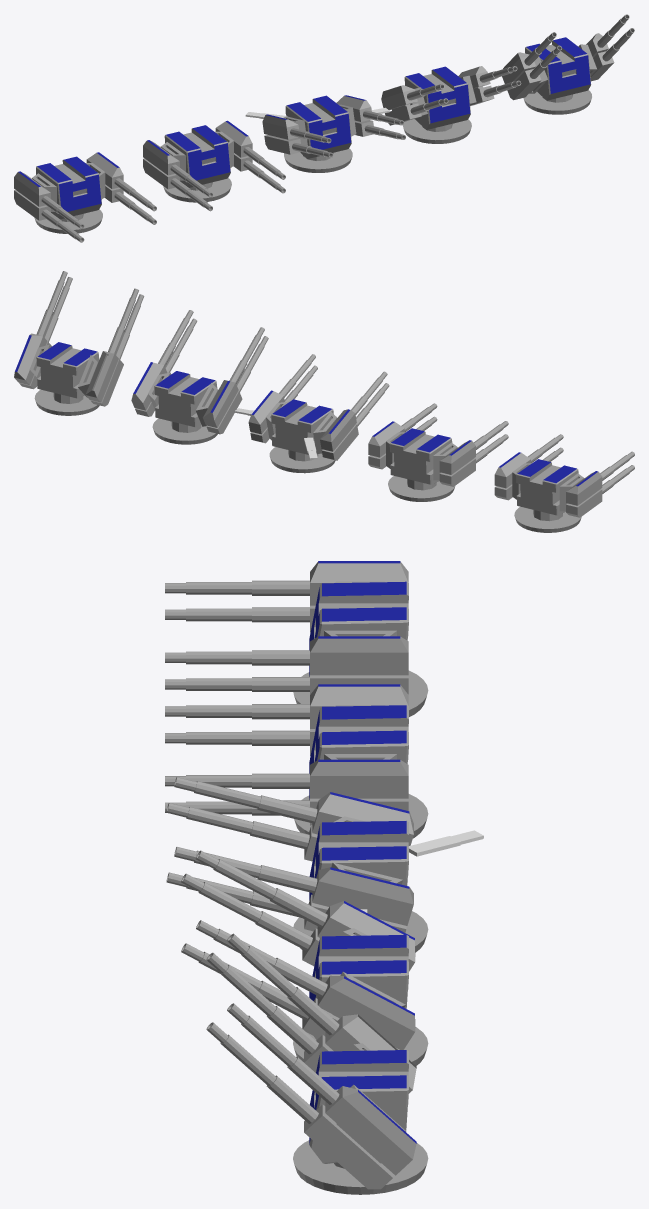
File: turret.gltf
The picture shows the model from 3 angles, top to bottom: view 1: azimuth 30°, elevation 25°; view 2: azimuth 150°, elevation 25°; view 3: azimuth 270°, elevation 25°; orthographic projection. The views are drawn at different scales.
Parts seen in each view (by area): view 1: cannon 01, cannon 02, cannon 04, cannon 03, Cylinder.004, Cube.006; view 2: cannon 04, cannon 03, cannon 02, cannon 01, Cylinder.004, Cube.006; view 3: cannon 04, cannon 01, cannon 02, cannon 03, Cylinder.004, Cube.006, Cube.002.
Part boxes in pixels (x1=…): cannon 01: x1=143, y1=120, x2=285, y2=211; cannon 02: x1=262, y1=95, x2=405, y2=172; cannon 04: x1=502, y1=14, x2=634, y2=114; cannon 03: x1=381, y1=66, x2=521, y2=143; Cylinder.004: x1=14, y1=152, x2=156, y2=242; Cube.006: x1=34, y1=156, x2=102, y2=233; cannon 04: x1=14, y1=271, x2=144, y2=415; cannon 03: x1=131, y1=310, x2=268, y2=444; cannon 02: x1=248, y1=354, x2=389, y2=473; cannon 01: x1=368, y1=403, x2=508, y2=501; Cylinder.004: x1=494, y1=434, x2=634, y2=517; Cube.006: x1=514, y1=459, x2=581, y2=532; cannon 04: x1=206, y1=933, x2=428, y2=1194; cannon 01: x1=165, y1=684, x2=428, y2=838; cannon 02: x1=166, y1=777, x2=428, y2=952; cannon 03: x1=181, y1=850, x2=428, y2=1065; Cylinder.004: x1=165, y1=561, x2=408, y2=694; Cube.006: x1=293, y1=581, x2=428, y2=716; Cube.002: x1=408, y1=830, x2=483, y2=856.
Size of the model in its own units: 20.06 by 3.38 by 4.92.
